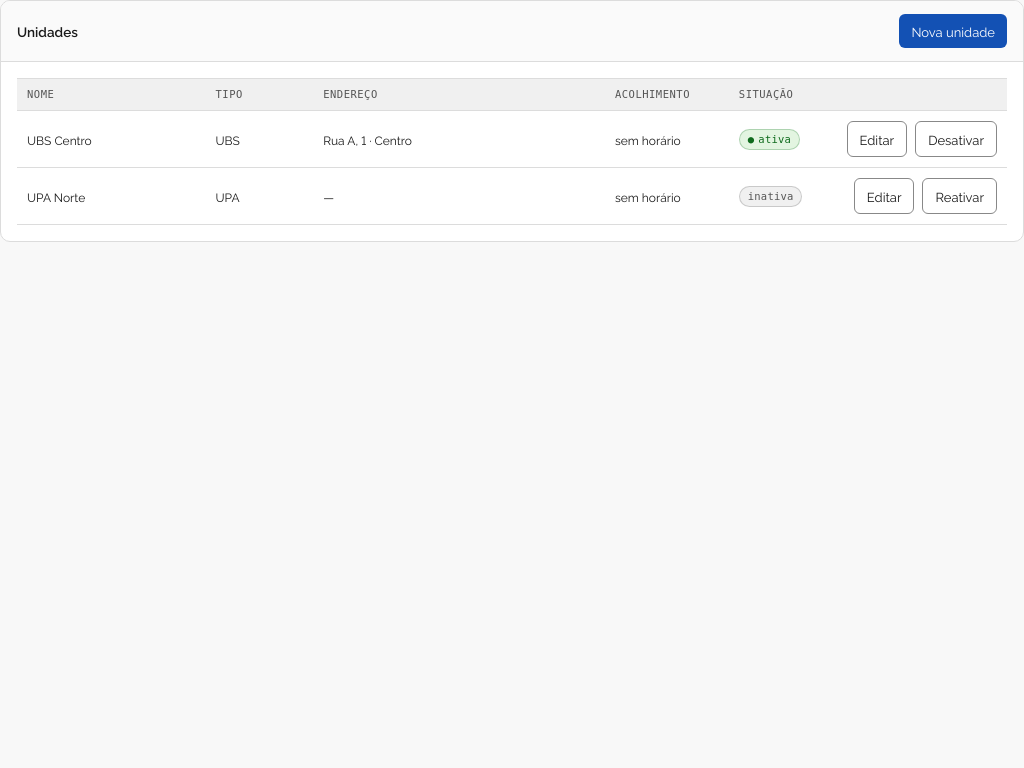
Test: Units › cria uma unidade com nome e tipo
The width and height of the screenshot is (1024, 768).
Click the button "Nova unidade" at (953, 31), box [899,14,1007,48]
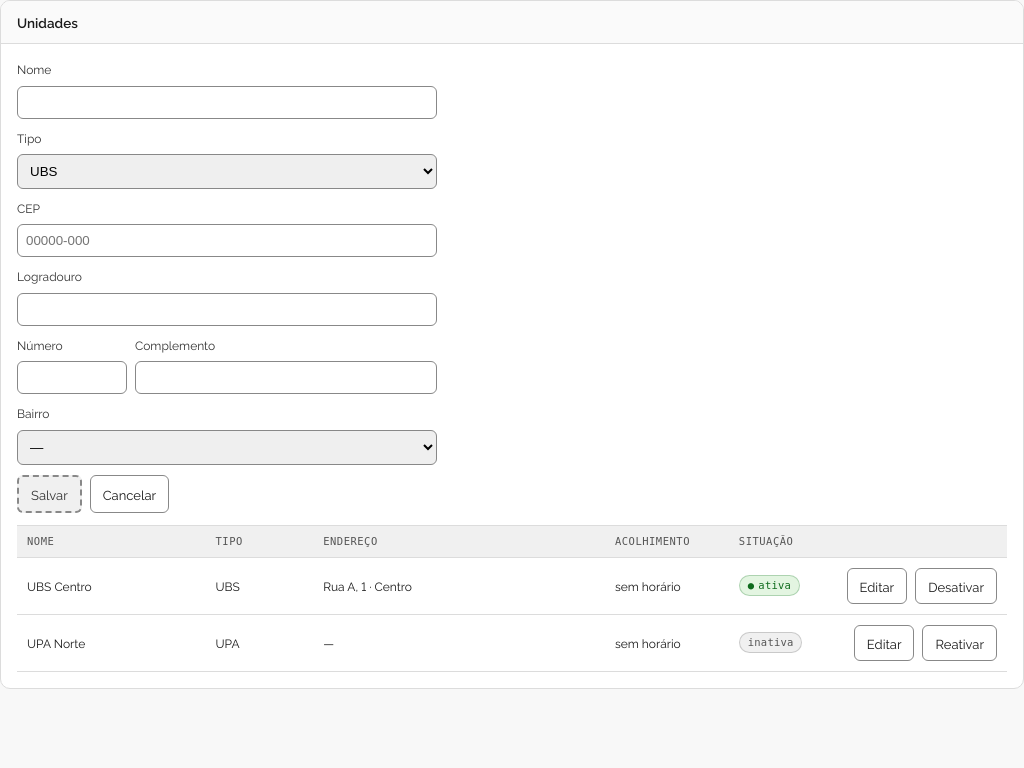
Type "Hospital Sul" into the field labelled "Nome" at (227, 102), box [17,86,437,119]
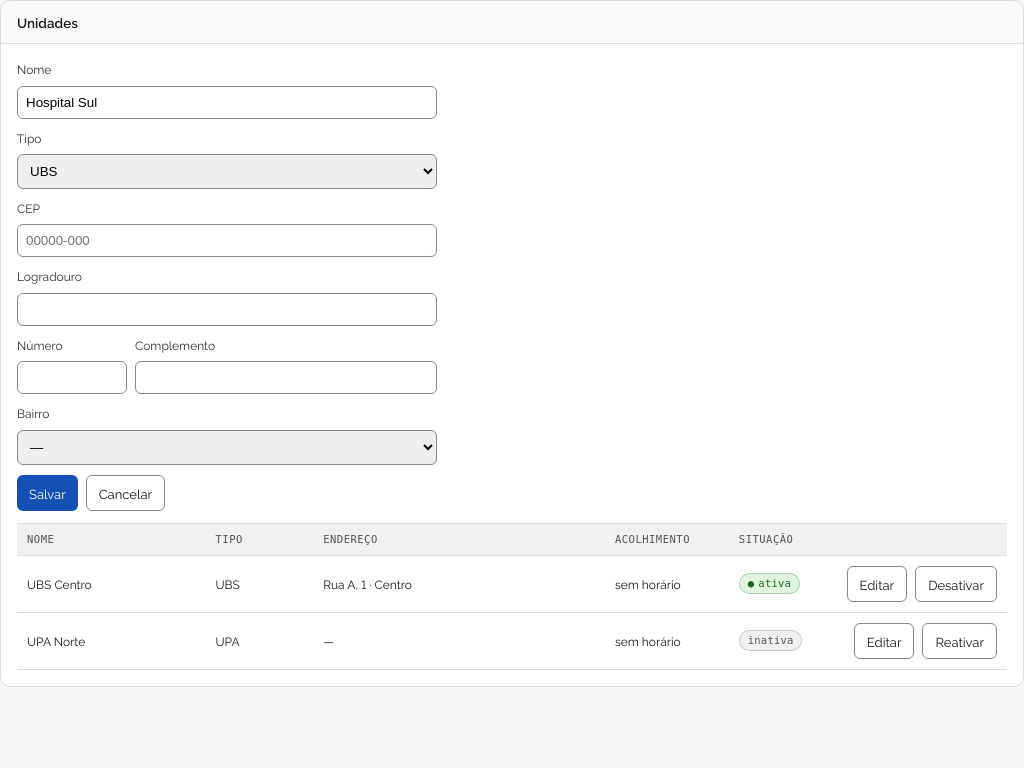
Select "Hospital" in the dropdown labelled "Tipo" at (227, 172), box [17,154,437,189]
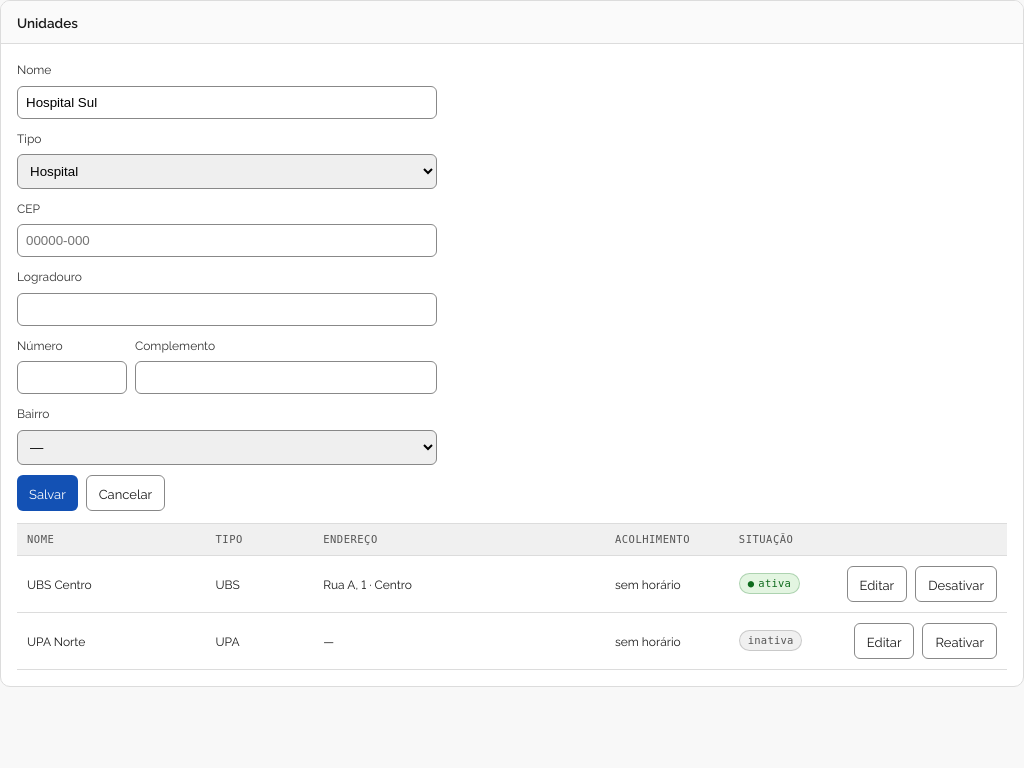
Click the button "Salvar" at (47, 492), box [17,474,78,510]
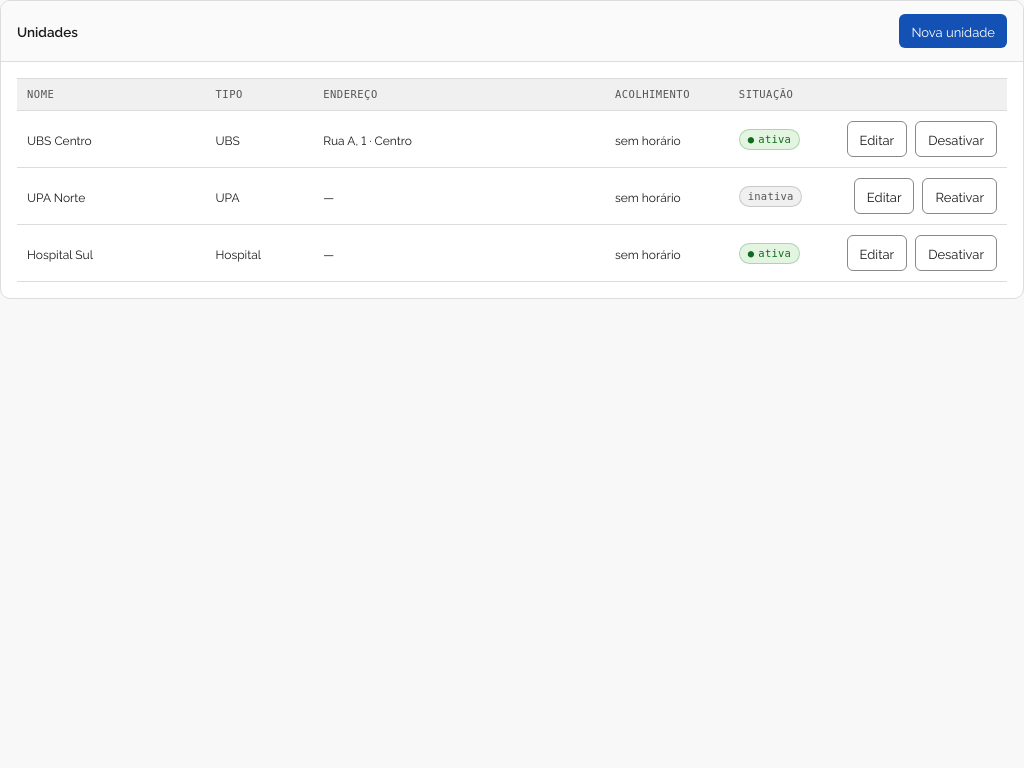
Check: the text "Hospital Sul" is shown, box [27,244,93,262]
